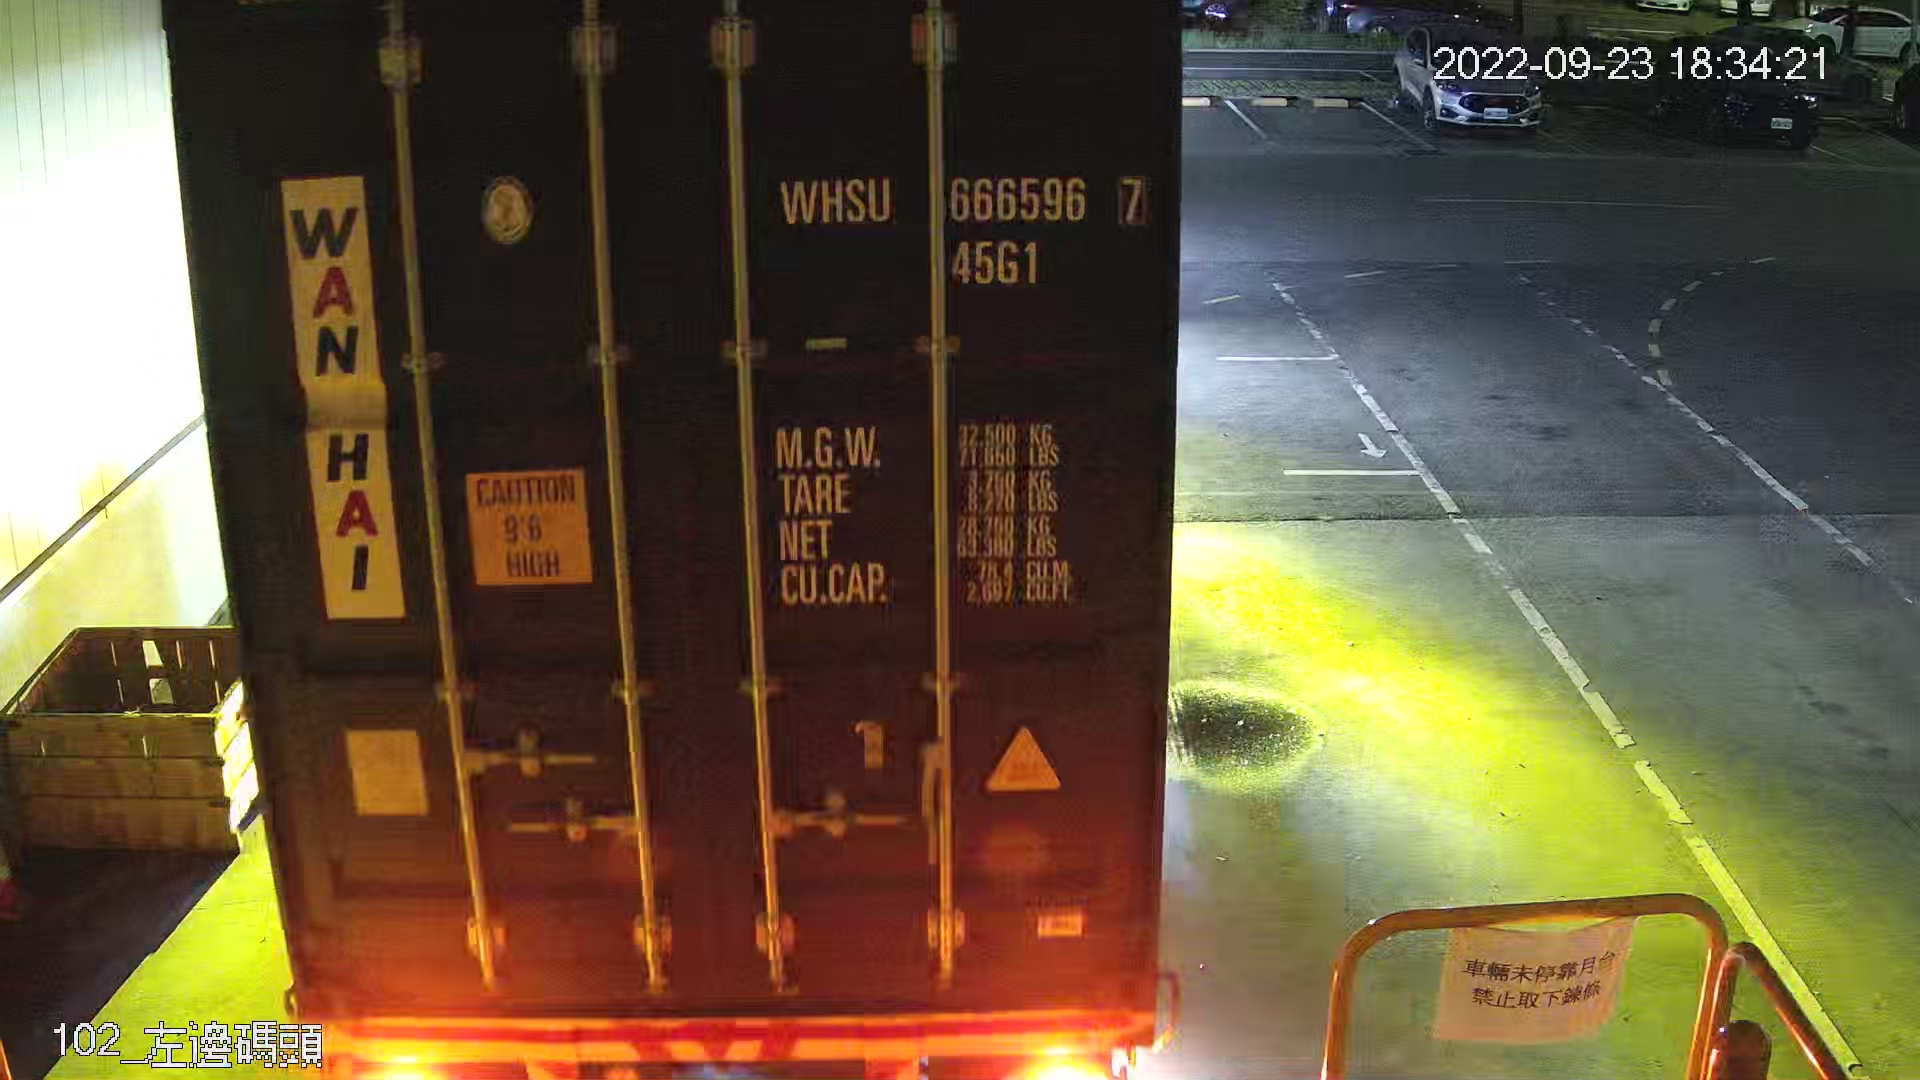container: (764, 158, 1160, 309)
